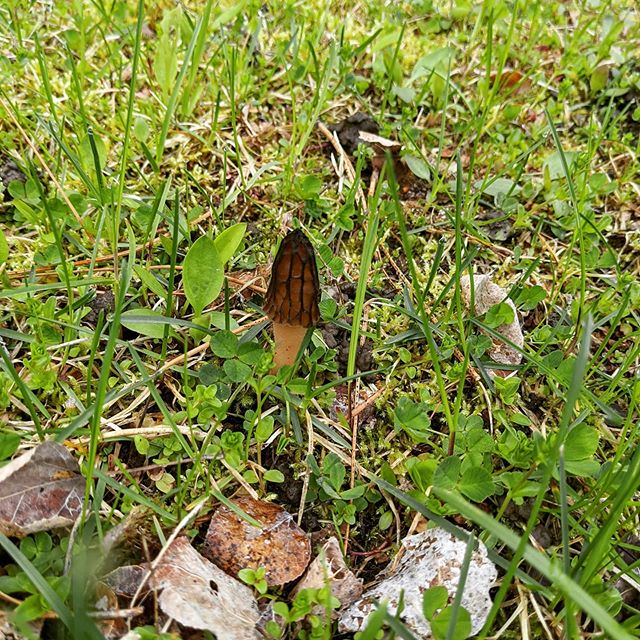vegetation: (10, 1, 639, 636)
